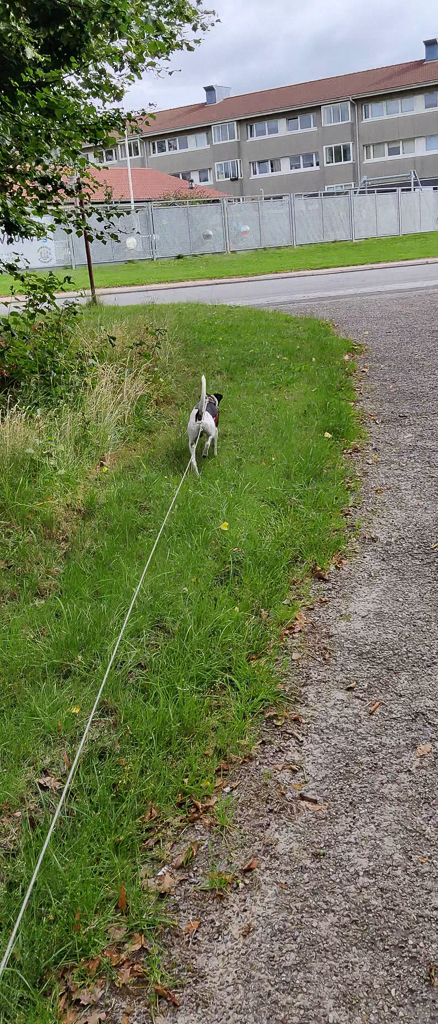Dog: (179, 369, 233, 485)
